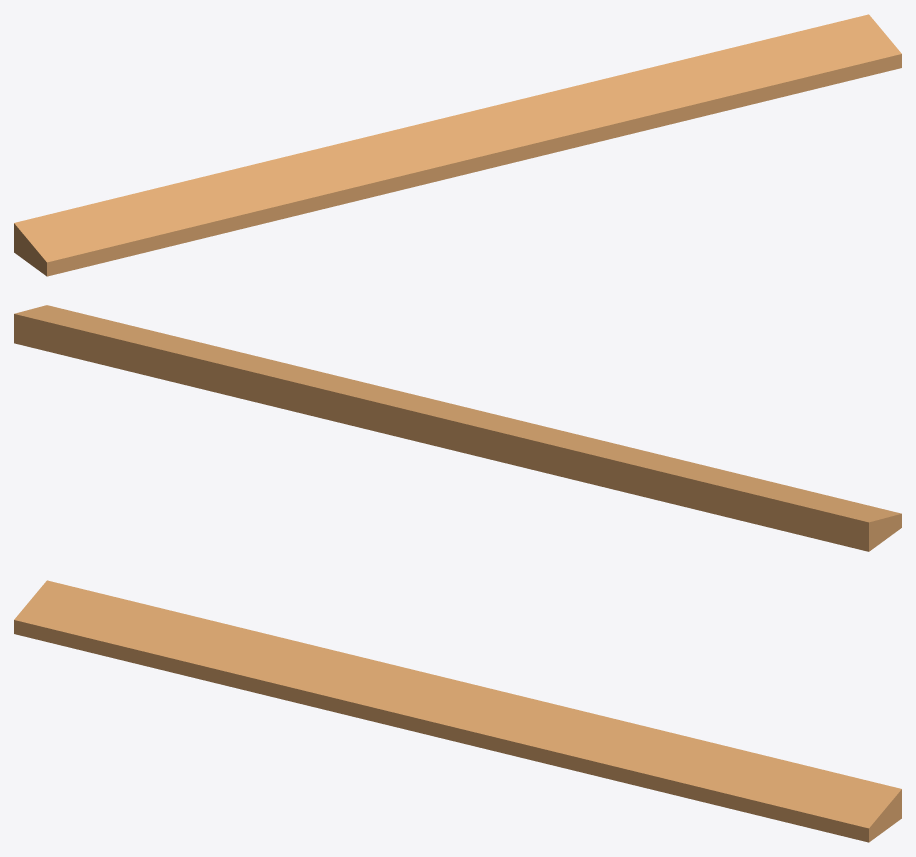
Rendered from SP_House06_WindowSupporter02.fbx.
The picture shows the model from 3 angles, top to bottom: view 1: azimuth 30°, elevation 25°; view 2: azimuth 150°, elevation 25°; view 3: azimuth 330°, elevation 25°; orthographic projection.
Visible parts, largest first — view 1: SP_House06_WindowSupporter02; view 2: SP_House06_WindowSupporter02; view 3: SP_House06_WindowSupporter02.
Boxes of the visible parts, x1,y1,x2,y2 form: SP_House06_WindowSupporter02: (14, 14, 901, 276); SP_House06_WindowSupporter02: (14, 305, 901, 551); SP_House06_WindowSupporter02: (14, 580, 901, 842).
Size of the model in its own units: 4.56 by 0.1503 by 0.3049.
